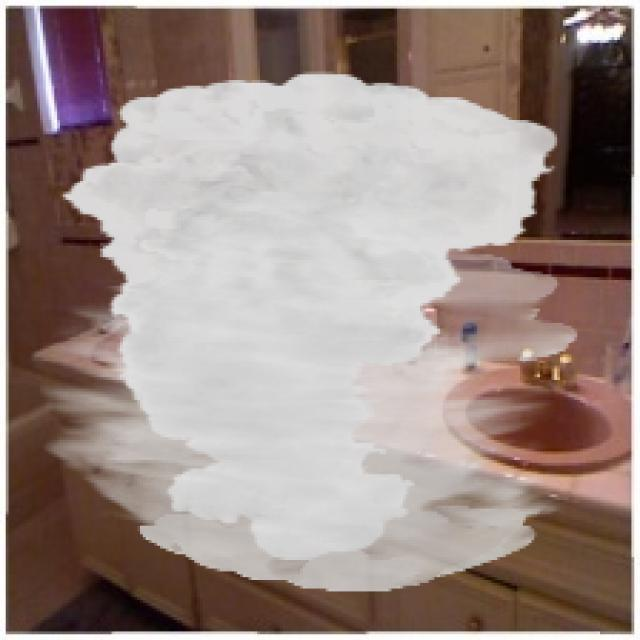Smoke: (40, 71, 577, 592)
